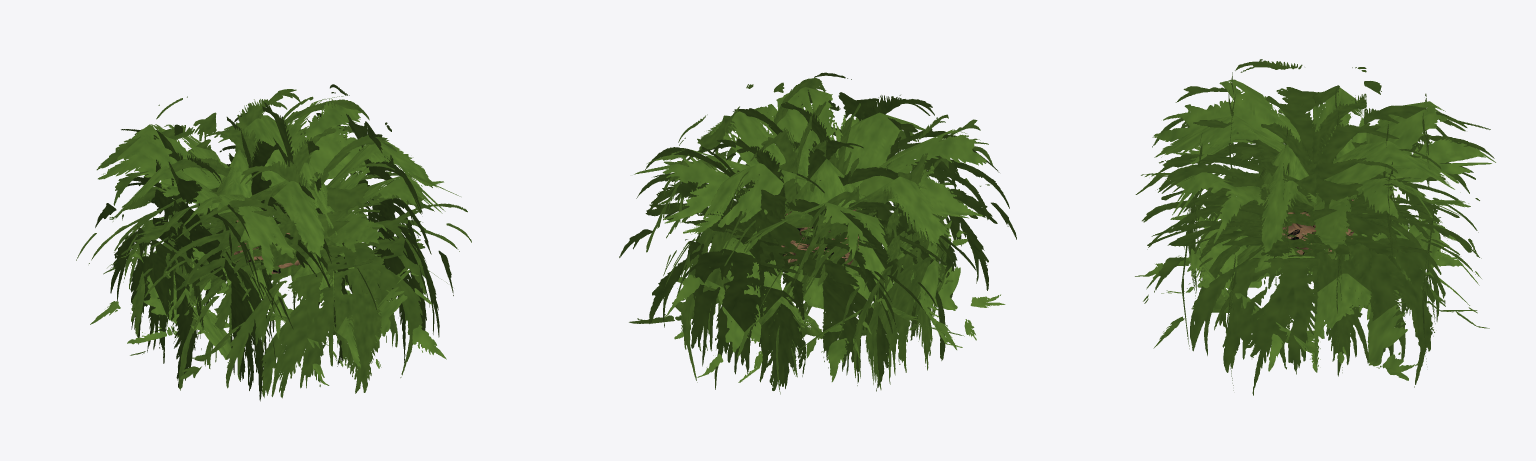
Rendered from palm-fan-far.glb.
The picture shows the model from 3 angles, left to right: view 1: azimuth 30°, elevation 25°; view 2: azimuth 150°, elevation 25°; view 3: azimuth 270°, elevation 25°; orthographic projection.
Visible parts, largest first — view 1: Foliage; view 2: Foliage; view 3: Foliage, Wood.
Part boxes in pixels (x1,y1,x2,y2): Foliage: (76, 84, 471, 401); Foliage: (619, 72, 1016, 394); Foliage: (1135, 59, 1495, 395); Wood: (1282, 199, 1353, 254).
Size of the model in its own units: 12.78 by 10.03 by 12.94.
2 materials, 2 textured.
